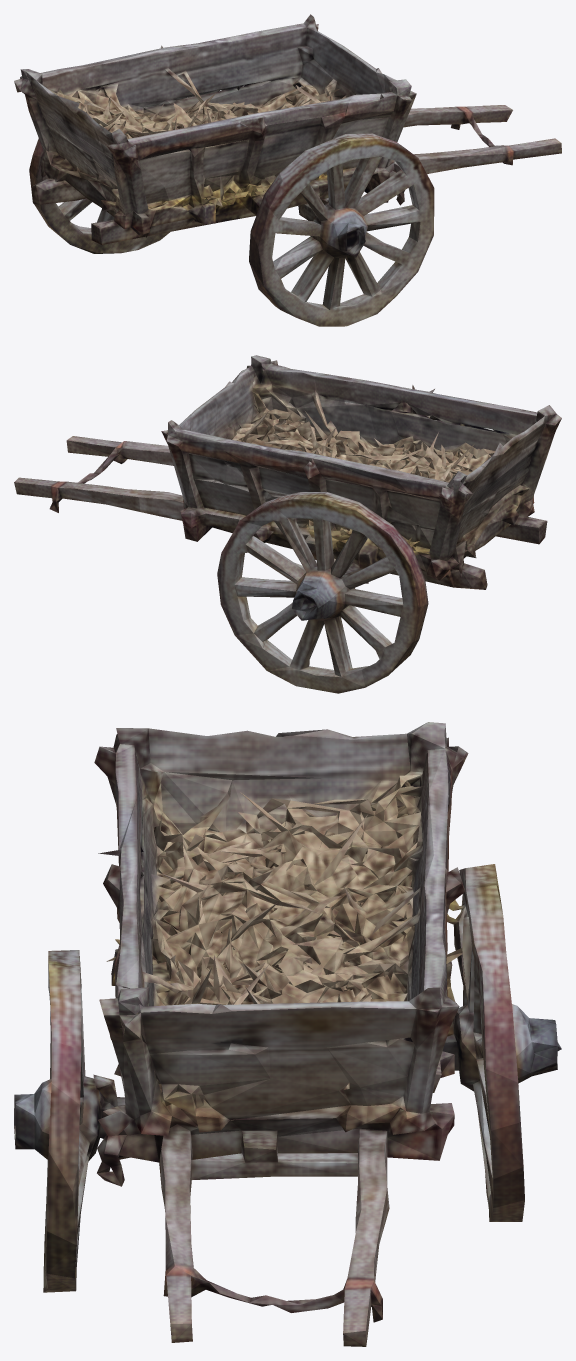
File: cart.glb
3 renders of one model, top to bottom at view 1: azimuth 30°, elevation 25°; view 2: azimuth 150°, elevation 25°; view 3: azimuth 270°, elevation 25°, orthographic. The views are drawn at different scales.
Parts seen in each view (by area): view 1: geometry_0; view 2: geometry_0; view 3: geometry_0.
Boxes of the visible parts, x1,y1,x2,y2 form: geometry_0: [14, 14, 561, 326]; geometry_0: [14, 355, 561, 693]; geometry_0: [14, 722, 561, 1346].
Bounding box in the file's own units: 1 × 0.4559 × 0.5928.
1 material, 1 textured.
